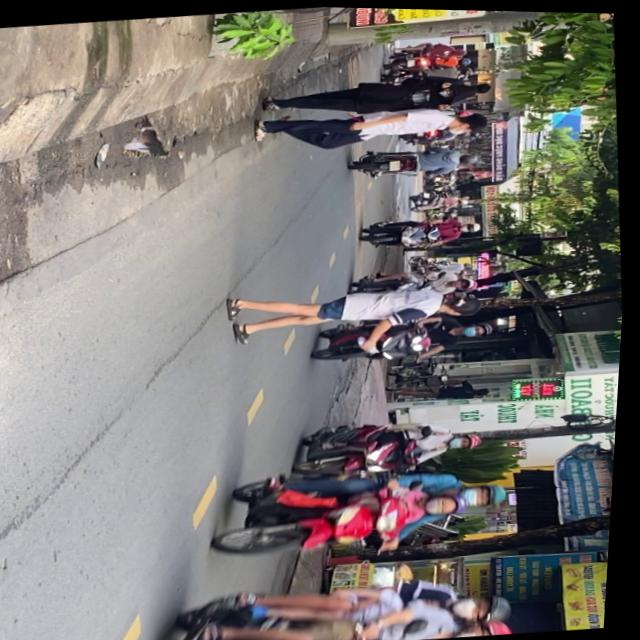helmet: (458, 587, 521, 622), (457, 613, 523, 637), (428, 488, 476, 516), (469, 478, 516, 506), (453, 429, 489, 449), (462, 318, 498, 336)
licenseplate: (213, 449, 522, 568), (149, 560, 528, 640), (293, 406, 493, 482), (310, 302, 501, 370)
